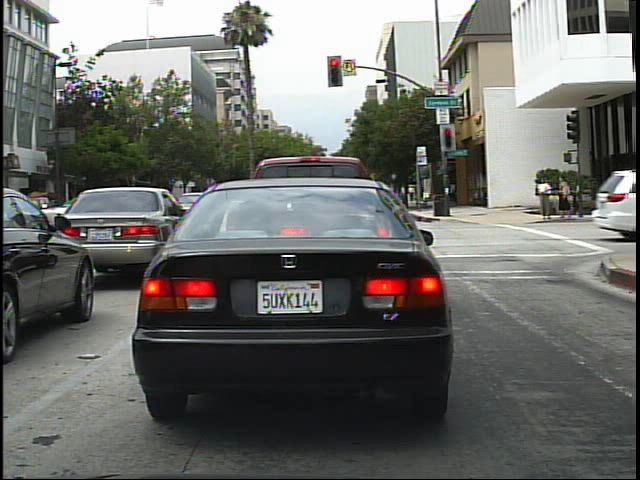person: (535, 171, 555, 223), (557, 173, 571, 218)
